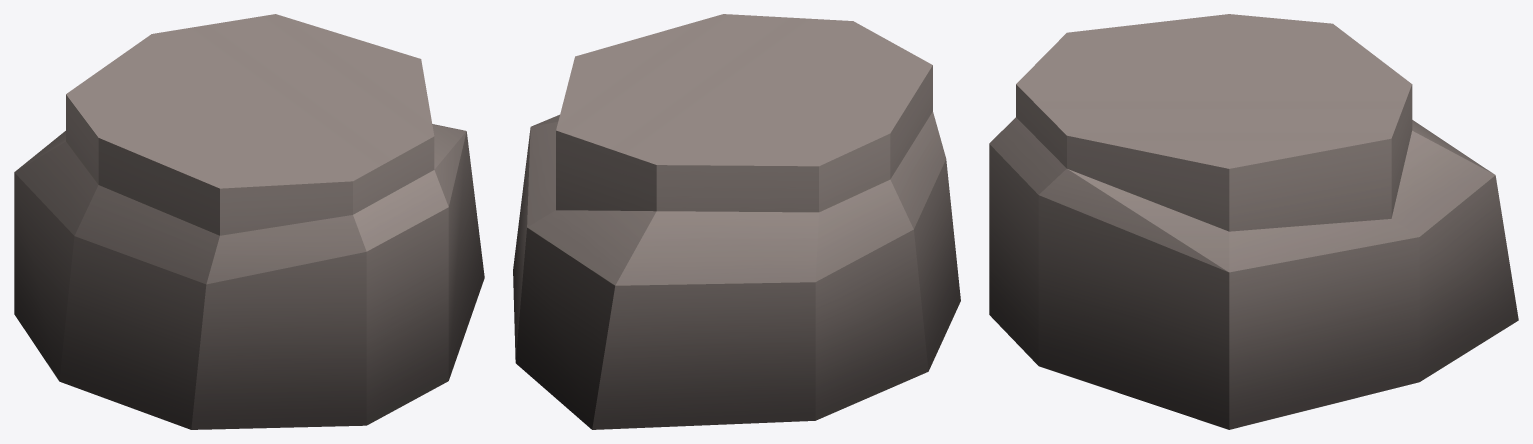
The model's file is SM_Stone_2_Flat_rock_1.fbx.
3 renders of one model, left to right at view 1: azimuth 30°, elevation 25°; view 2: azimuth 150°, elevation 25°; view 3: azimuth 270°, elevation 25°, orthographic. The views are drawn at different scales.
Visible parts, largest first — view 1: Stone_2:Flat_rock_1; view 2: Stone_2:Flat_rock_1; view 3: Stone_2:Flat_rock_1.
Part boxes in pixels (<box>): Stone_2:Flat_rock_1: <box>14,14,484,429</box>; Stone_2:Flat_rock_1: <box>513,14,960,429</box>; Stone_2:Flat_rock_1: <box>989,14,1518,429</box>.
Size of the model in its own units: 422 by 222 by 463.
Materials: 1 (1 with a texture image).
